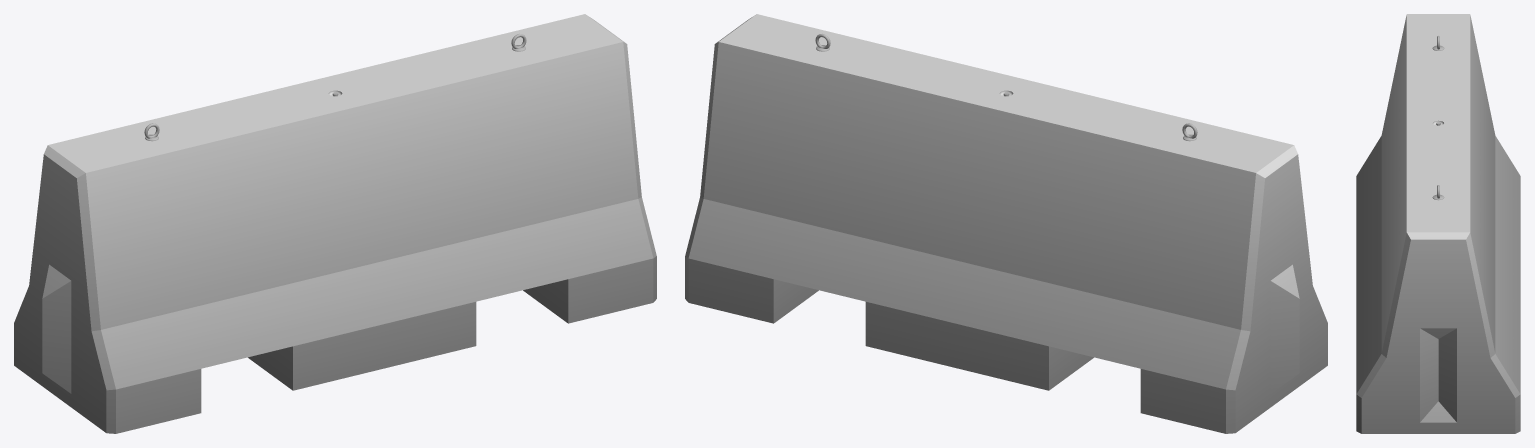
File: concrete_jersey_barrier_01_small.glb
3 views of the same model, side by side, from view 1: azimuth 30°, elevation 25°; view 2: azimuth 150°, elevation 25°; view 3: azimuth 270°, elevation 25° (orthographic). The views are drawn at different scales.
Visible parts, largest first — view 1: concrete_jersey_barrier_01_small; view 2: concrete_jersey_barrier_01_small; view 3: concrete_jersey_barrier_01_small.
Boxes of the visible parts, left/top/right/bottom form: concrete_jersey_barrier_01_small: left=14, top=14, right=656, bottom=433; concrete_jersey_barrier_01_small: left=685, top=14, right=1327, bottom=433; concrete_jersey_barrier_01_small: left=1356, top=14, right=1520, bottom=433.
Bounding box in the file's own units: 2.07 × 0.88 × 0.62.
2 materials, 2 textured.
